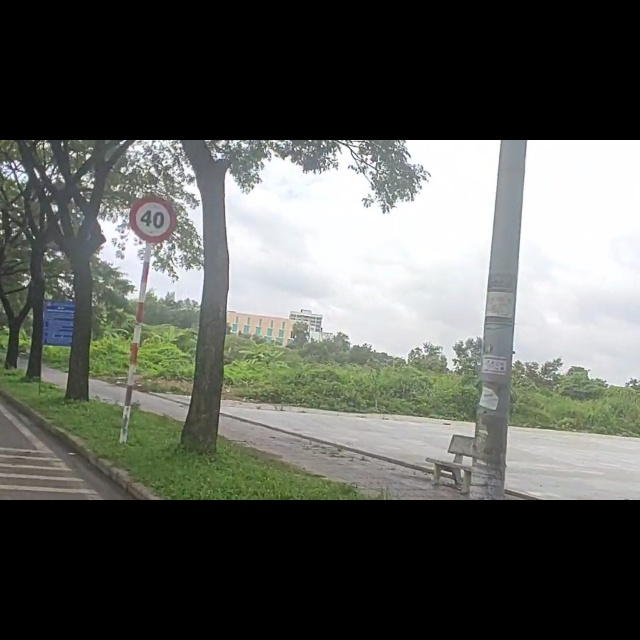Tốc độ tối đa cho phép 40km/h: (128, 195, 180, 243)
